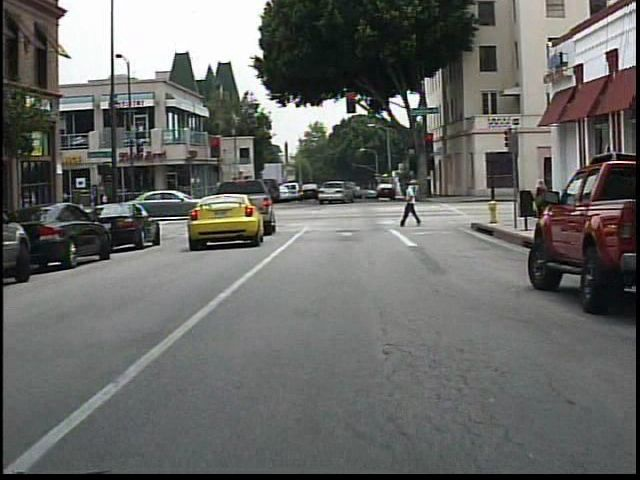person: (399, 180, 425, 232), (529, 175, 553, 222)
